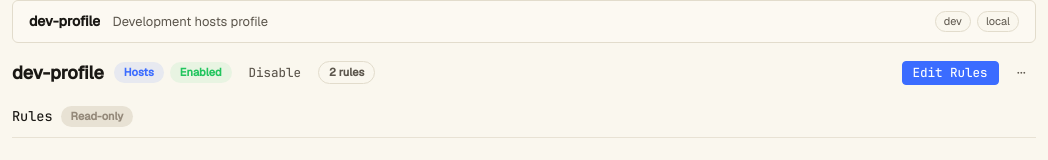
Test case: ProfileView › switches to editing mode when 'Edit Rules' is clicked
Click the button "Edit Rules" at (950, 72), box 902,60 -> 998,84
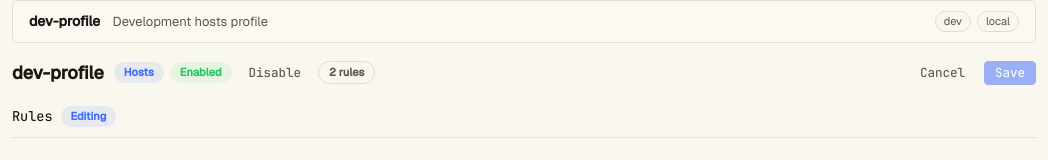
Result: the text "Editing" is shown at 61,106 -> 116,126
Result: the text "Read-only" is gone
